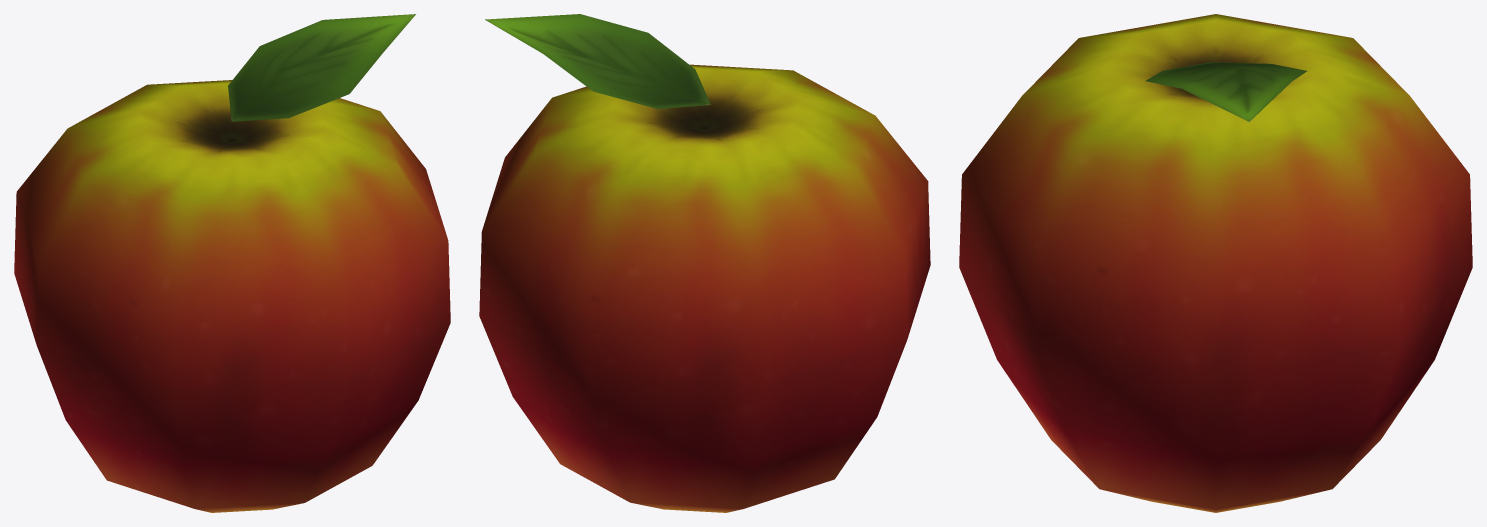
File: apple.fbx
3 renders of one model, left to right at view 1: azimuth 30°, elevation 25°; view 2: azimuth 150°, elevation 25°; view 3: azimuth 270°, elevation 25°, orthographic. The views are drawn at different scales.
Visible parts, largest first — view 1: apple, leafs_inv_2; view 2: apple, leafs_inv_2; view 3: apple, leafs_inv_2.
Boxes of the visible parts, x1,y1,x2,y2 form: apple: (14, 80, 450, 512); leafs_inv_2: (228, 14, 415, 121); apple: (479, 64, 930, 512); leafs_inv_2: (485, 14, 710, 109); apple: (959, 14, 1472, 512); leafs_inv_2: (1145, 62, 1307, 121).
Size of the model in its own units: 167 by 165 by 166.
Materials: 2 (2 with a texture image).
